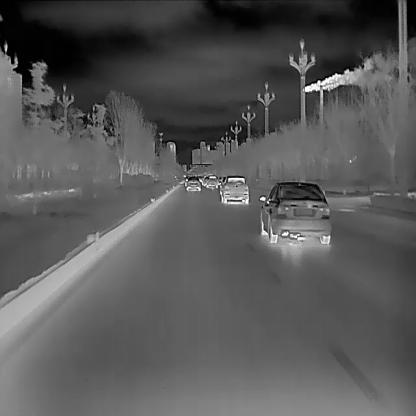car: (258, 182, 330, 244), (218, 176, 248, 203), (185, 175, 199, 191), (206, 175, 217, 187)
